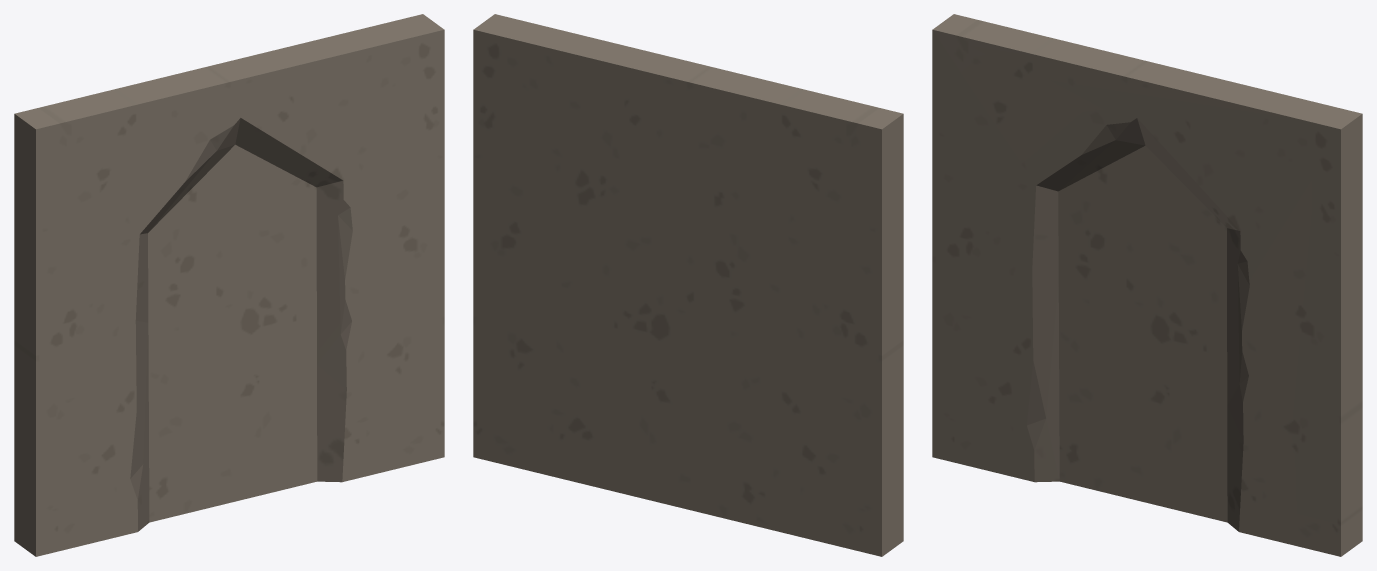
The model's file is forge_wall_plain.gltf.
The picture shows the model from 3 angles, left to right: view 1: azimuth 30°, elevation 25°; view 2: azimuth 150°, elevation 25°; view 3: azimuth 330°, elevation 25°; orthographic projection.
Visible parts, largest first — view 1: forge_wall_plain; view 2: forge_wall_plain; view 3: forge_wall_plain.
Boxes of the visible parts, left/top/right/bottom form: forge_wall_plain: left=14, top=14, right=444, bottom=556; forge_wall_plain: left=473, top=14, right=903, bottom=556; forge_wall_plain: left=932, top=14, right=1362, bottom=556.
Size of the model in its own units: 5 by 5 by 0.456.
1 material, 1 textured.
